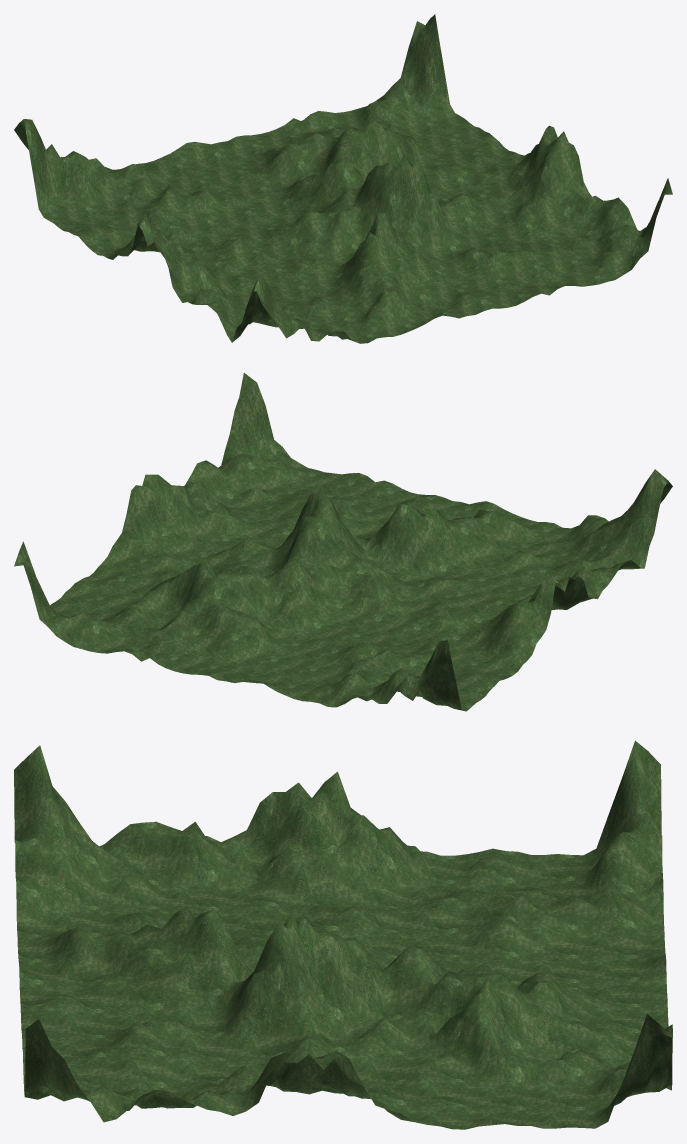
The model's file is Field1.fbx.
The picture shows the model from 3 angles, top to bottom: view 1: azimuth 30°, elevation 25°; view 2: azimuth 150°, elevation 25°; view 3: azimuth 270°, elevation 25°; orthographic projection. The views are drawn at different scales.
Parts seen in each view (by area): view 1: Plane001; view 2: Plane001; view 3: Plane001.
Part boxes in pixels (x1,y1,x2,y2): Plane001: (14,14,672,343); Plane001: (14,373,672,711); Plane001: (14,740,672,1129).
Size of the model in its own units: 50916 by 50916 by 10228.
1 material, 1 textured.
